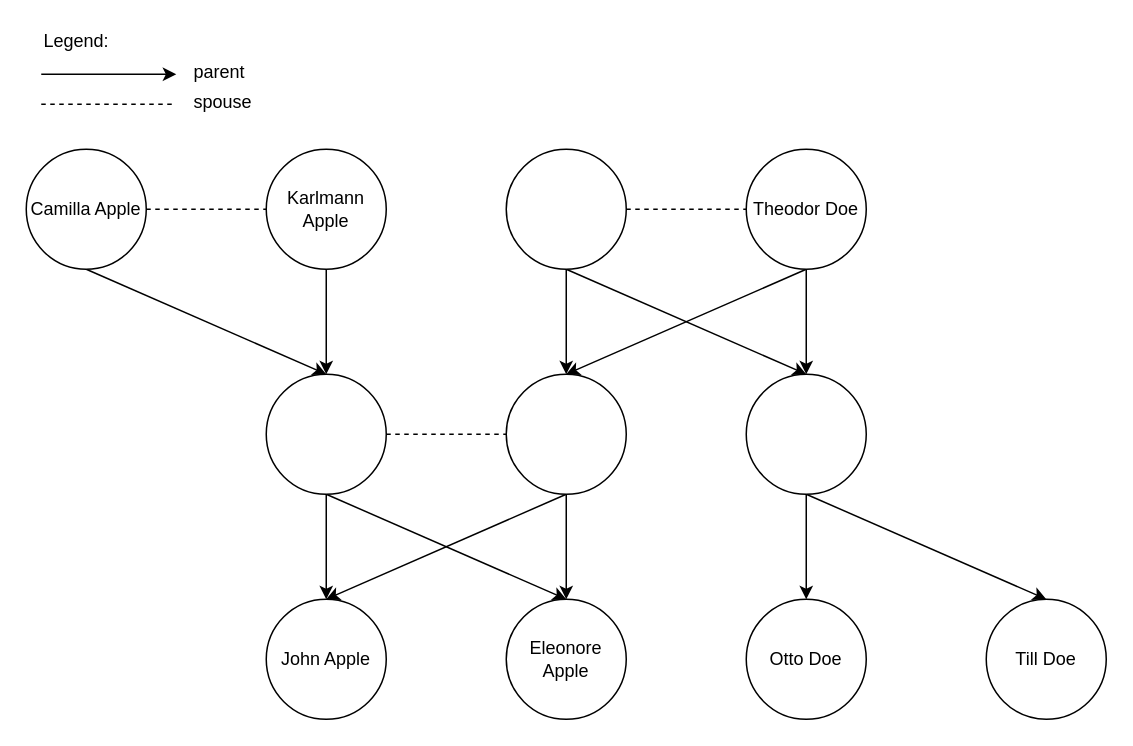
Image size: 1133x746. Some labels were removed from this diagram. The shapes that lost their labels are listed below. From the top down, each one's box as (x1, y1, x2, y2) in pixels, then its label:
(505, 148, 626, 269): Katrin Doe
(265, 373, 386, 494): Tim Apple
(505, 373, 626, 494): Susan Apple
(745, 373, 866, 494): Jack Doe
